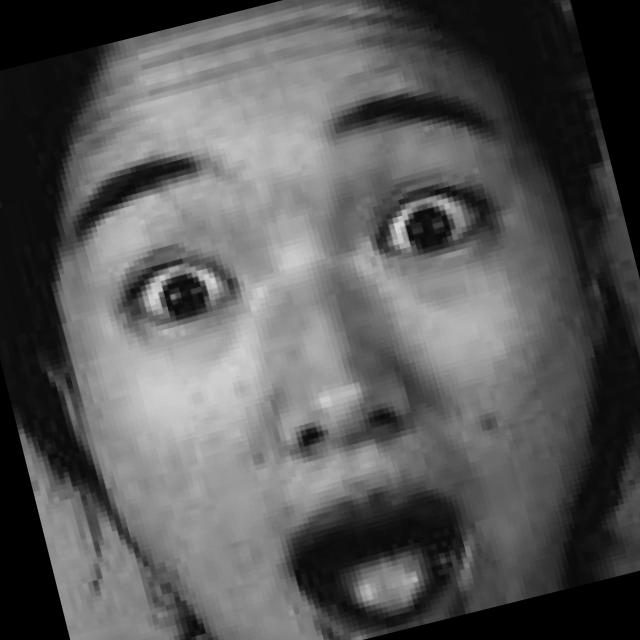surprise: (0, 5, 625, 640)
